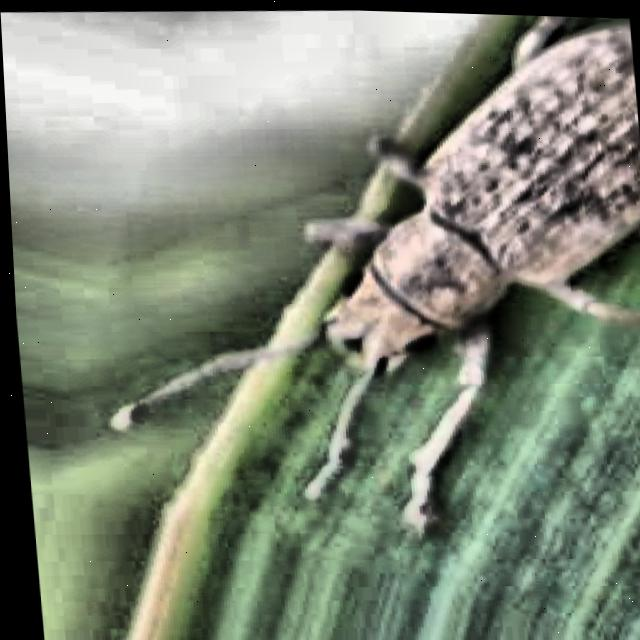Stink bug: (114, 3, 640, 480)
